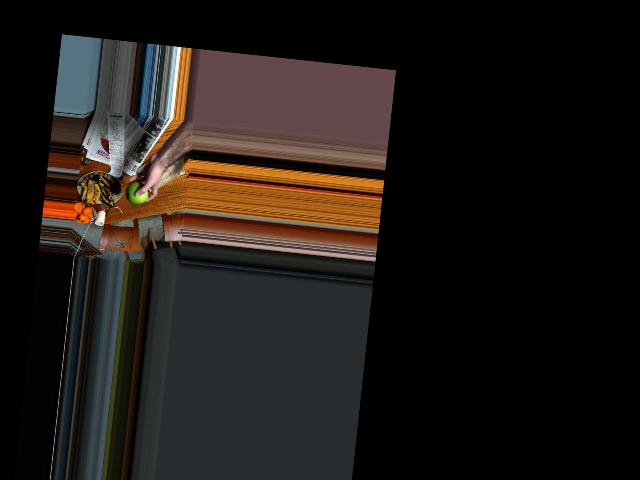apple: (124, 178, 149, 207)
